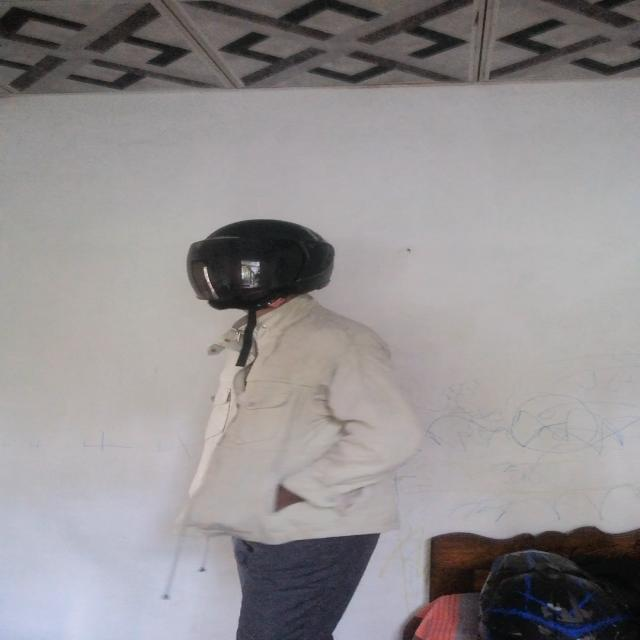Helmet_Wearer: (184, 210, 329, 332)
Jacket_Wearer: (178, 305, 444, 541)
Person: (185, 226, 427, 640)
